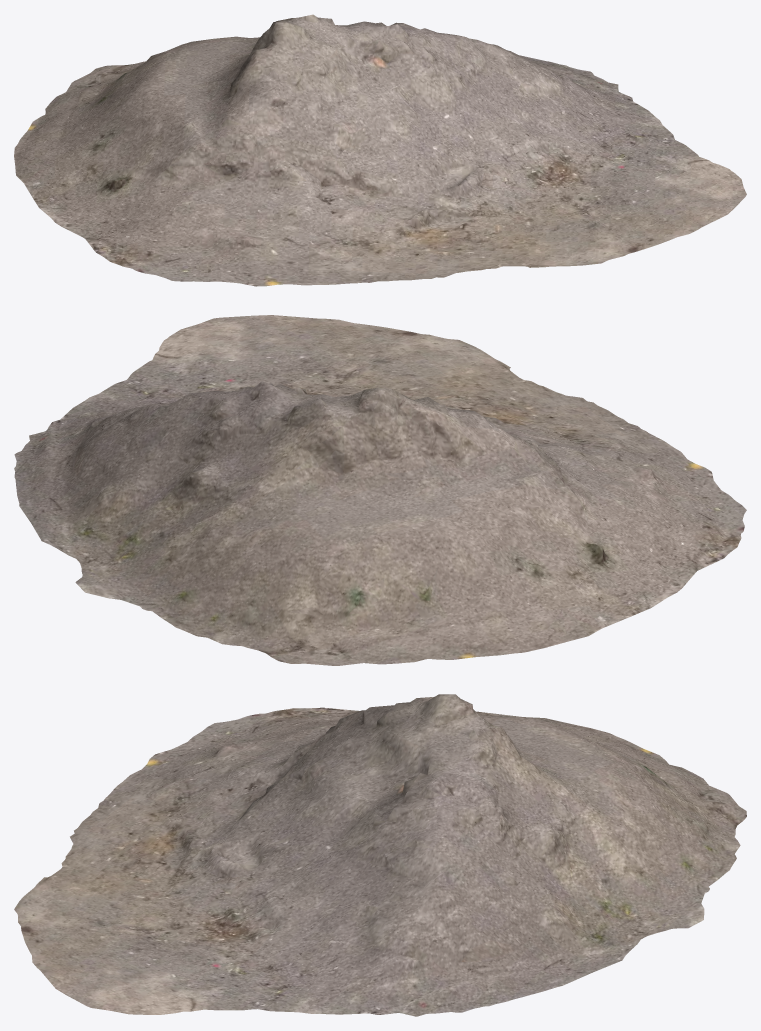
The model's file is sand.glb.
3 views of the same model, one above another, from view 1: azimuth 30°, elevation 25°; view 2: azimuth 150°, elevation 25°; view 3: azimuth 270°, elevation 25° (orthographic). The views are drawn at different scales.
Visible parts, largest first — view 1: Construction_Sand_Pile_Construction_Sand_Pile_Mat_0; view 2: Construction_Sand_Pile_Construction_Sand_Pile_Mat_0; view 3: Construction_Sand_Pile_Construction_Sand_Pile_Mat_0.
Boxes of the visible parts, x1,y1,x2,y2 form: Construction_Sand_Pile_Construction_Sand_Pile_Mat_0: (14, 14, 746, 286); Construction_Sand_Pile_Construction_Sand_Pile_Mat_0: (14, 315, 746, 665); Construction_Sand_Pile_Construction_Sand_Pile_Mat_0: (14, 694, 746, 1016).
Size of the model in its own units: 3.39 by 0.7409 by 3.4.
1 material, 1 textured.
